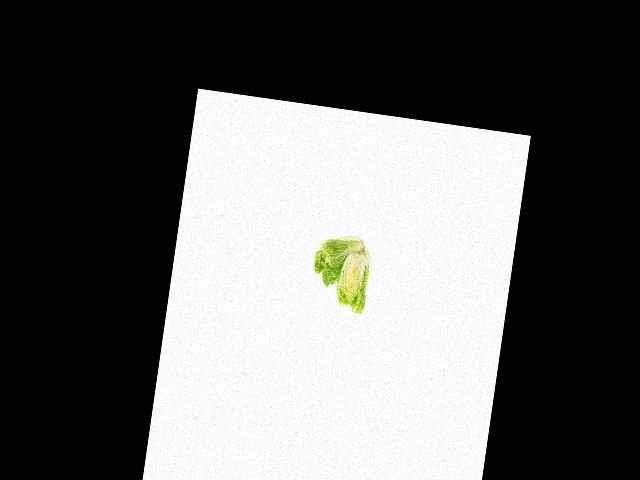lettuce: (308, 229, 369, 295)
